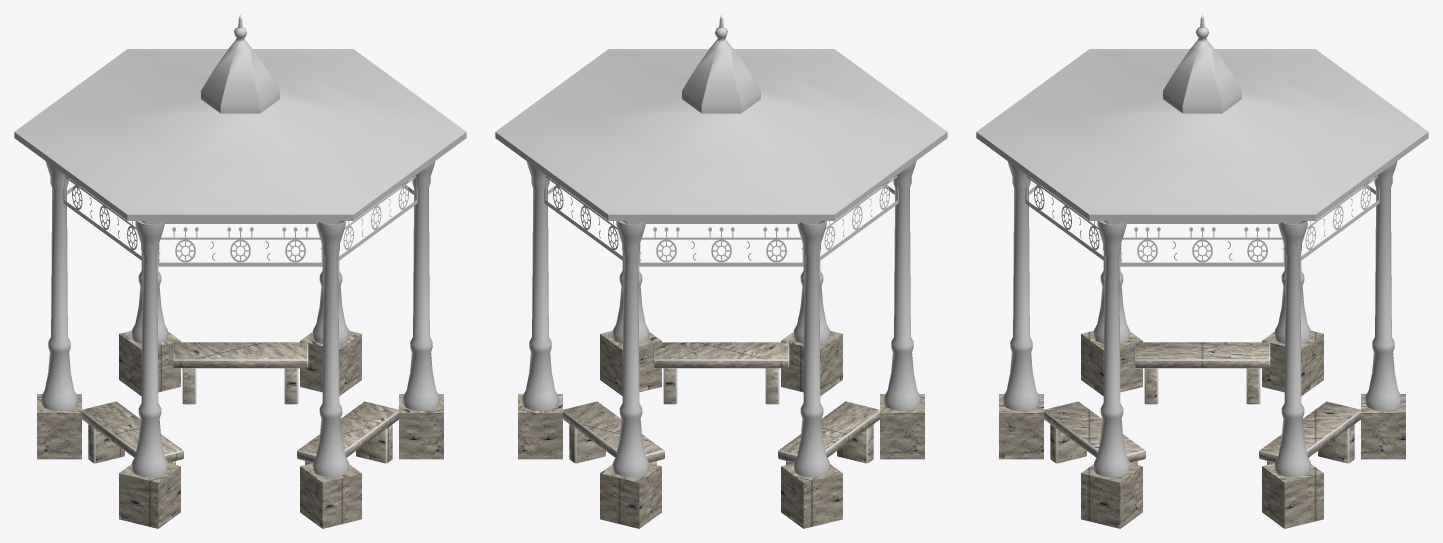
Rendered from SM_Morin_Gazebo.fbx.
The picture shows the model from 3 angles, left to right: view 1: azimuth 30°, elevation 25°; view 2: azimuth 150°, elevation 25°; view 3: azimuth 270°, elevation 25°; orthographic projection.
Parts seen in each view (by area): view 1: SM_Morin_Gazebo; view 2: SM_Morin_Gazebo; view 3: SM_Morin_Gazebo.
Boxes of the visible parts, box(x1,y1,x2,y2) form: SM_Morin_Gazebo: box(14, 14, 466, 528); SM_Morin_Gazebo: box(495, 14, 947, 528); SM_Morin_Gazebo: box(976, 14, 1428, 528).
Size of what is drawn, in the model's own units: 346 by 400 by 425.
Materials: 3 (1 with a texture image).
